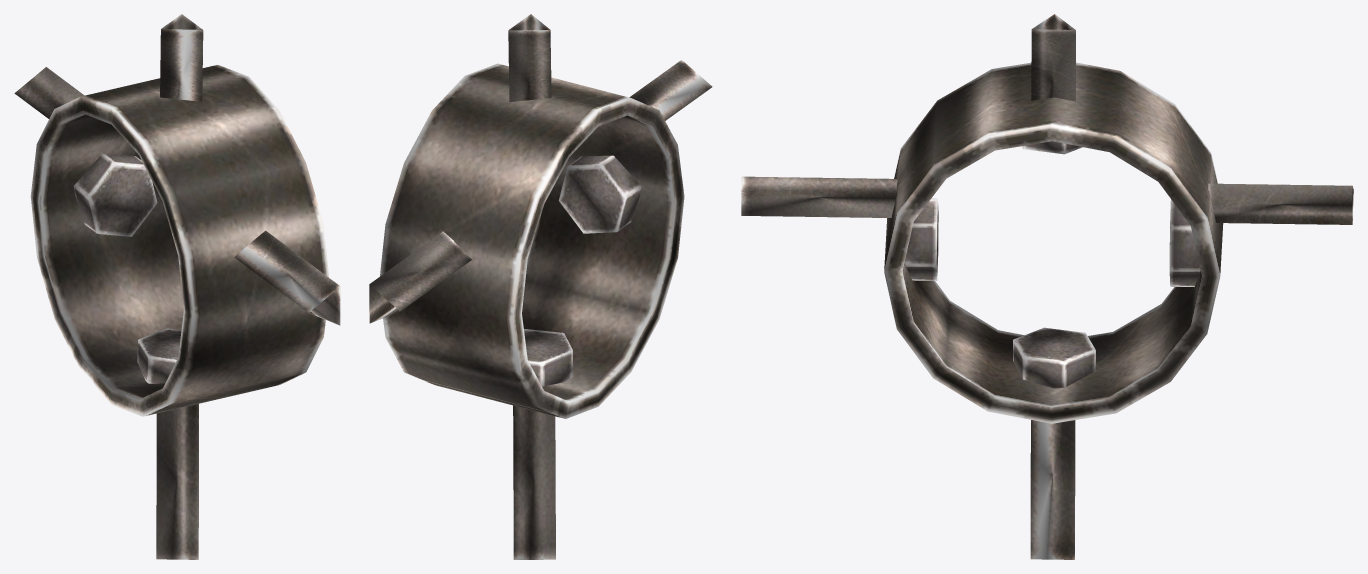
The model's file is Robot01.Chest1.fbx.
3 renders of one model, left to right at view 1: azimuth 30°, elevation 25°; view 2: azimuth 150°, elevation 25°; view 3: azimuth 270°, elevation 25°, orthographic.
Visible parts, largest first — view 1: Robot; view 2: Robot; view 3: Robot.
Part boxes in pixels (bbox=[...]): Robot: bbox=[14, 14, 340, 559]; Robot: bbox=[369, 14, 712, 559]; Robot: bbox=[741, 14, 1353, 559].
Bounding box in the file's own units: 21.63 × 77.82 × 81.03.
